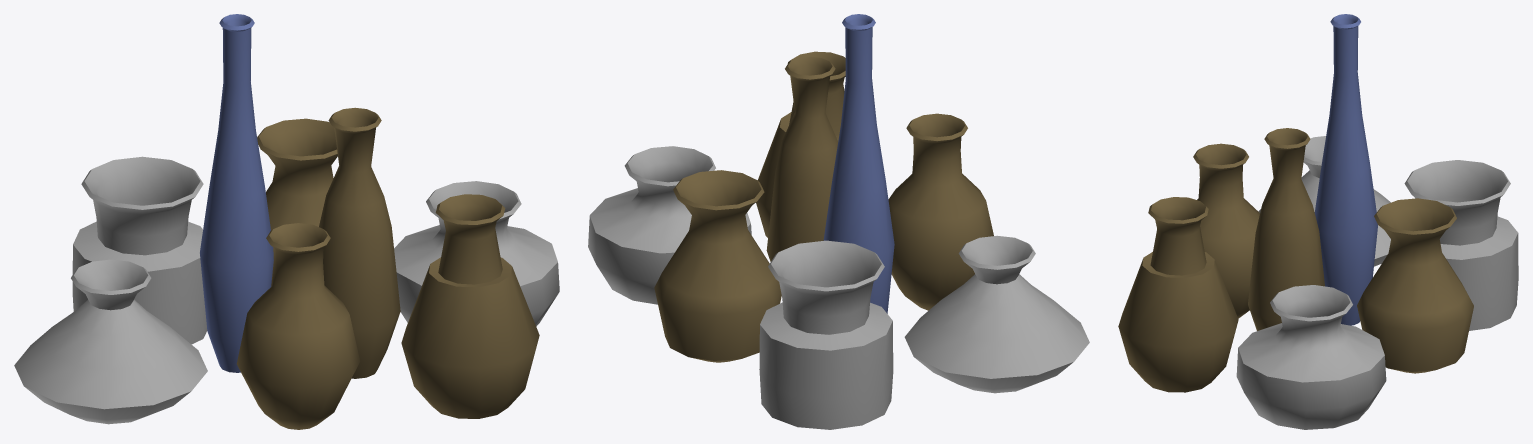
File: VaseScript.obj
The picture shows the model from 3 angles, left to right: view 1: azimuth 30°, elevation 25°; view 2: azimuth 150°, elevation 25°; view 3: azimuth 270°, elevation 25°; orthographic projection. The views are drawn at different scales.
Visible parts, largest first — view 1: vase.232_vase.1346, vase.159_vase.1387, vase.034_vase.1262, vase.161_vase.1389, vase.065_vase.1293, vase.113_vase.1341, vase.187_vase.1326, vase.193_vase.1295; view 2: vase.065_vase.1293, vase.159_vase.1387, vase.193_vase.1295, vase.034_vase.1262, vase.187_vase.1326, vase.161_vase.1389, vase.113_vase.1341, vase.232_vase.1346; view 3: vase.187_vase.1326, vase.232_vase.1346, vase.193_vase.1295, vase.161_vase.1389, vase.065_vase.1293, vase.113_vase.1341, vase.034_vase.1262, vase.159_vase.1387.
Boxes of the visible parts, x1,y1,x2,y2 form: vase.232_vase.1346: (401, 194, 539, 418); vase.159_vase.1387: (14, 259, 207, 424); vase.034_vase.1262: (236, 223, 360, 429); vase.161_vase.1389: (200, 14, 273, 372); vase.065_vase.1293: (72, 156, 207, 344); vase.113_vase.1341: (319, 107, 400, 378); vase.187_vase.1326: (394, 181, 559, 326); vase.193_vase.1295: (257, 118, 337, 286); vase.065_vase.1293: (759, 240, 893, 429); vase.159_vase.1387: (904, 235, 1089, 393); vase.193_vase.1295: (654, 170, 781, 362); vase.034_vase.1262: (888, 113, 993, 310); vase.187_vase.1326: (588, 146, 751, 304); vase.161_vase.1389: (823, 14, 894, 313); vase.113_vase.1341: (766, 56, 838, 261); vase.232_vase.1346: (756, 51, 845, 237); vase.187_vase.1326: (1236, 285, 1386, 429); vase.232_vase.1346: (1118, 197, 1238, 392); vase.193_vase.1295: (1357, 198, 1473, 373); vase.161_vase.1389: (1314, 14, 1377, 325); vase.065_vase.1293: (1404, 160, 1518, 330); vase.113_vase.1341: (1248, 128, 1324, 330); vase.034_vase.1262: (1193, 143, 1259, 318); vase.159_vase.1387: (1258, 136, 1390, 266).
Bounding box in the file's own units: 11.49 × 7.44 × 8.96.
